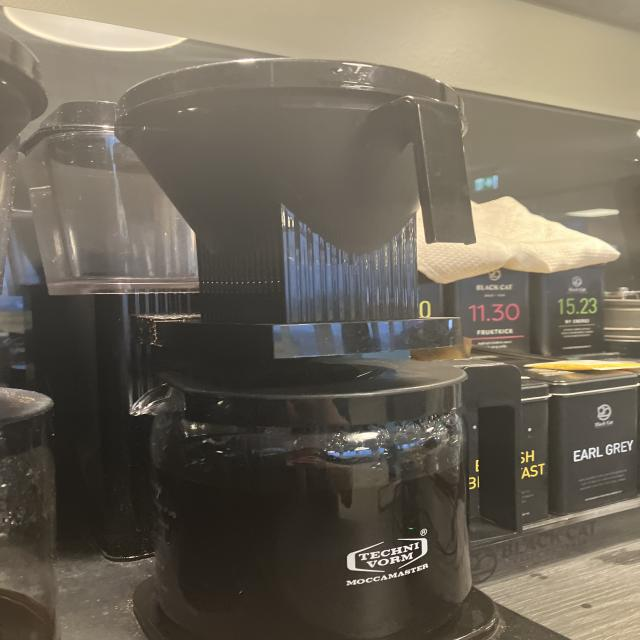coffee: (115, 368, 486, 632)
